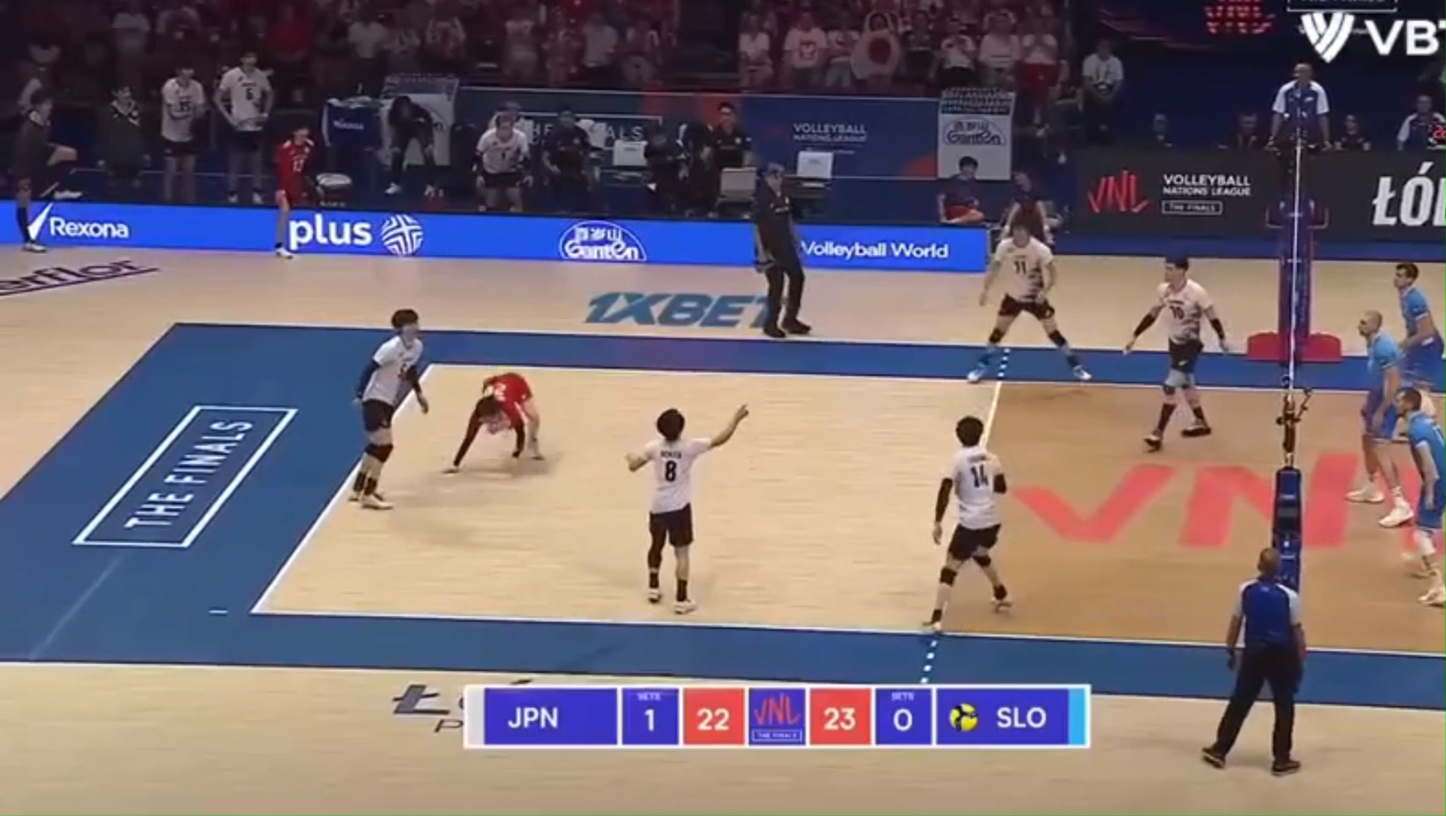player: (1348, 311, 1414, 527), (1397, 388, 1445, 606), (1393, 261, 1445, 391)
player 1: (626, 406, 747, 614), (1123, 258, 1228, 450), (967, 221, 1092, 382), (926, 415, 1010, 632), (352, 308, 429, 509), (448, 372, 543, 471)
referee: (1202, 547, 1306, 775), (1266, 62, 1330, 228), (751, 164, 811, 338)
